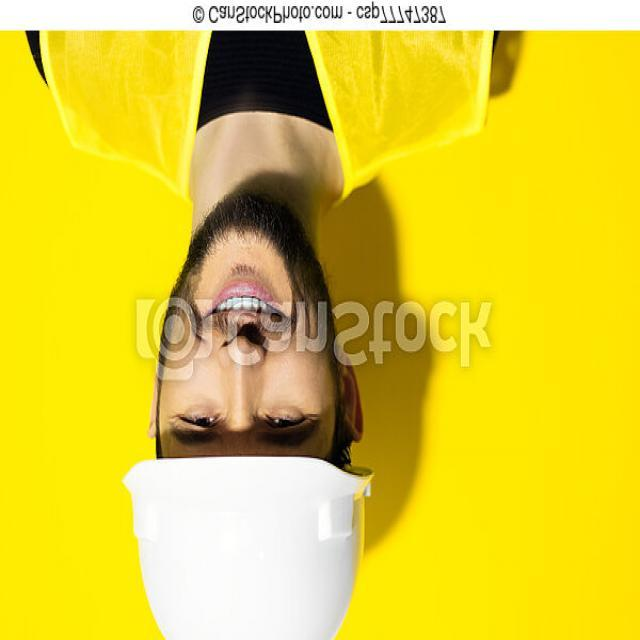safetyhelmet: (124, 344, 379, 639)
